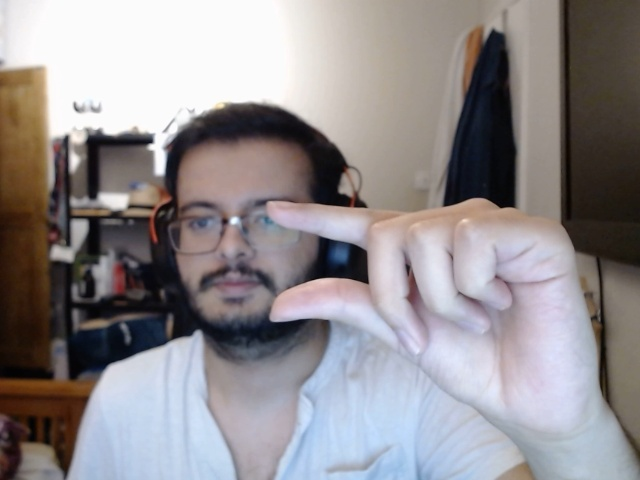Small: (251, 200, 620, 446)
